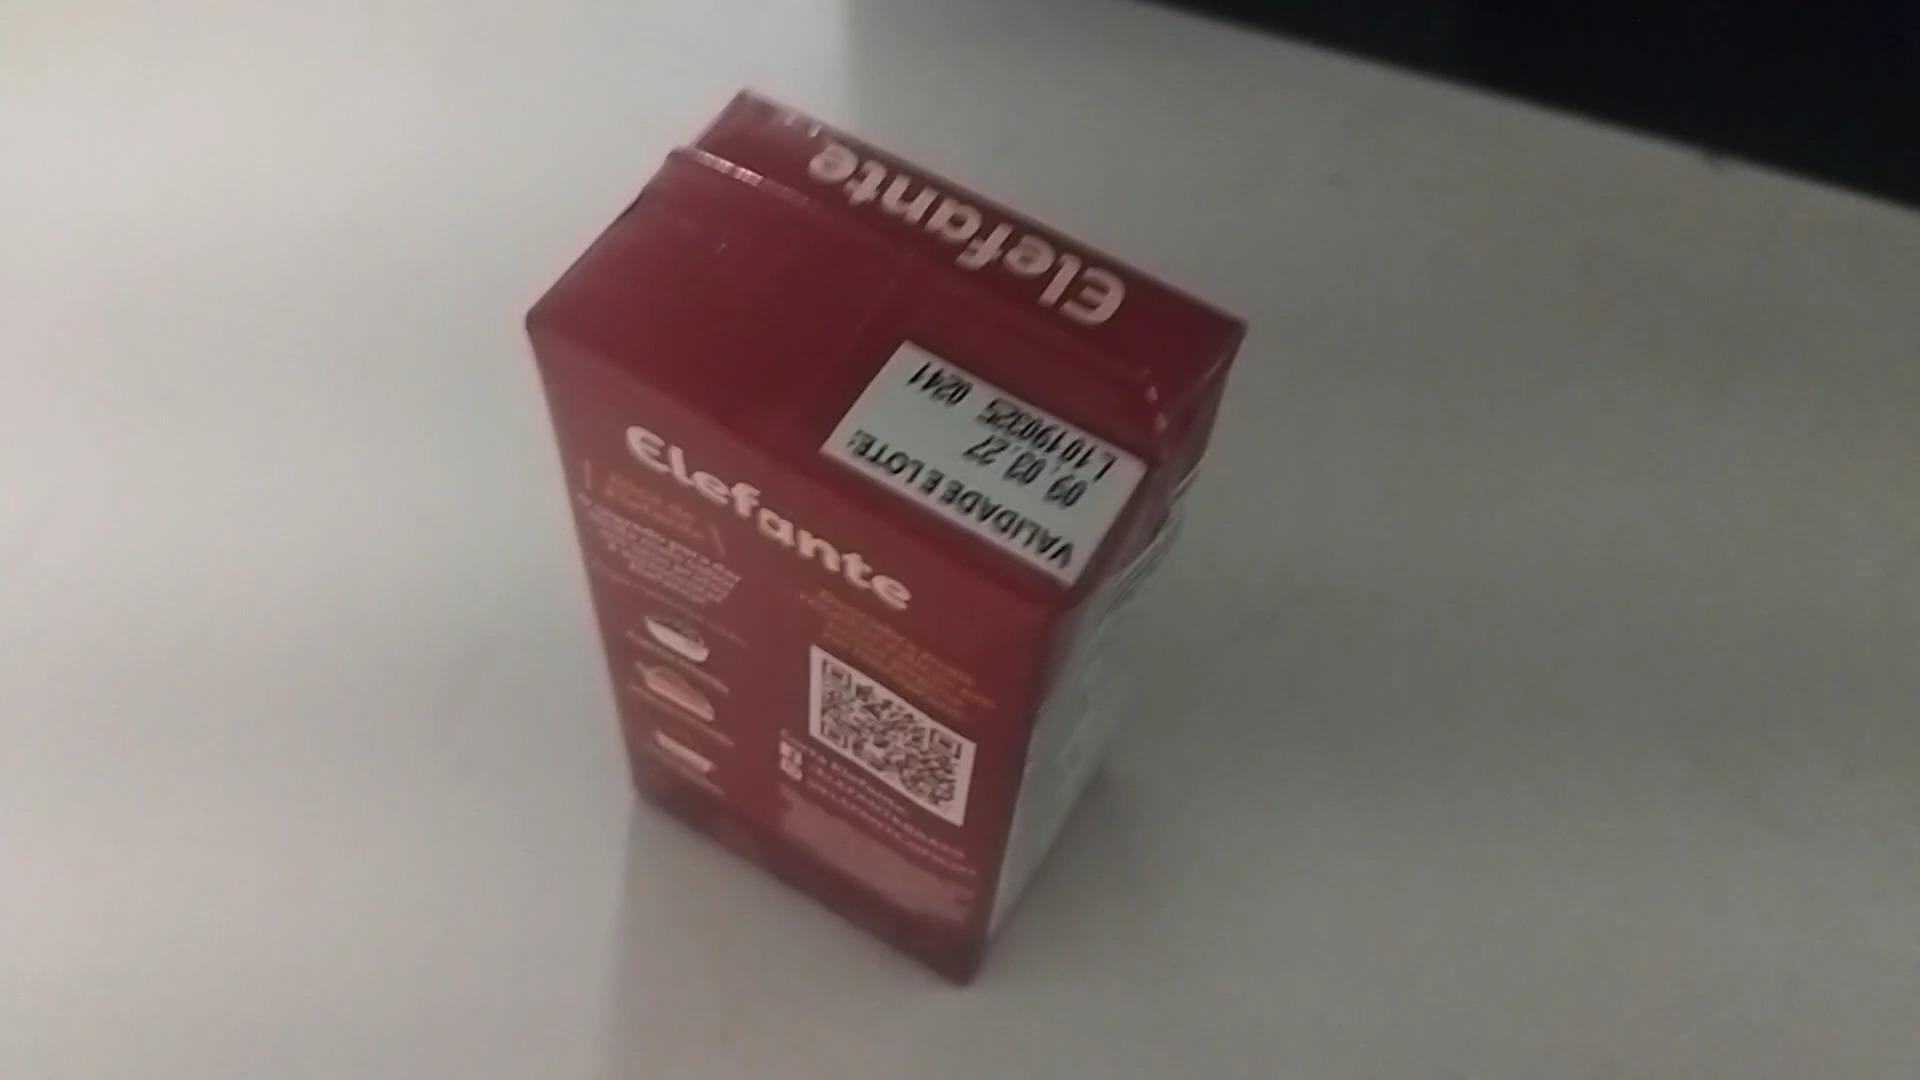tomate: (512, 86, 1250, 984)
